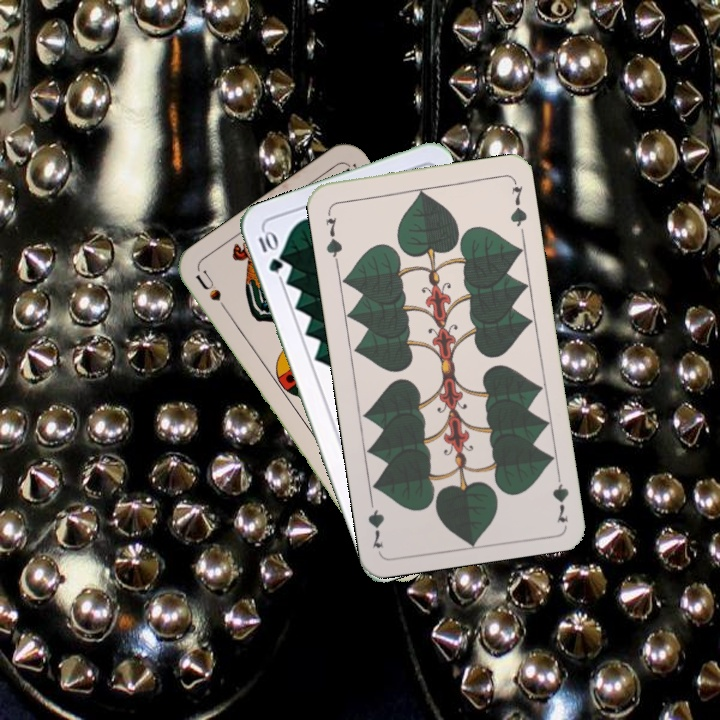G10: (254, 227, 286, 276)
G7: (548, 465, 571, 525), (321, 213, 345, 265)
SU: (192, 266, 235, 321)
